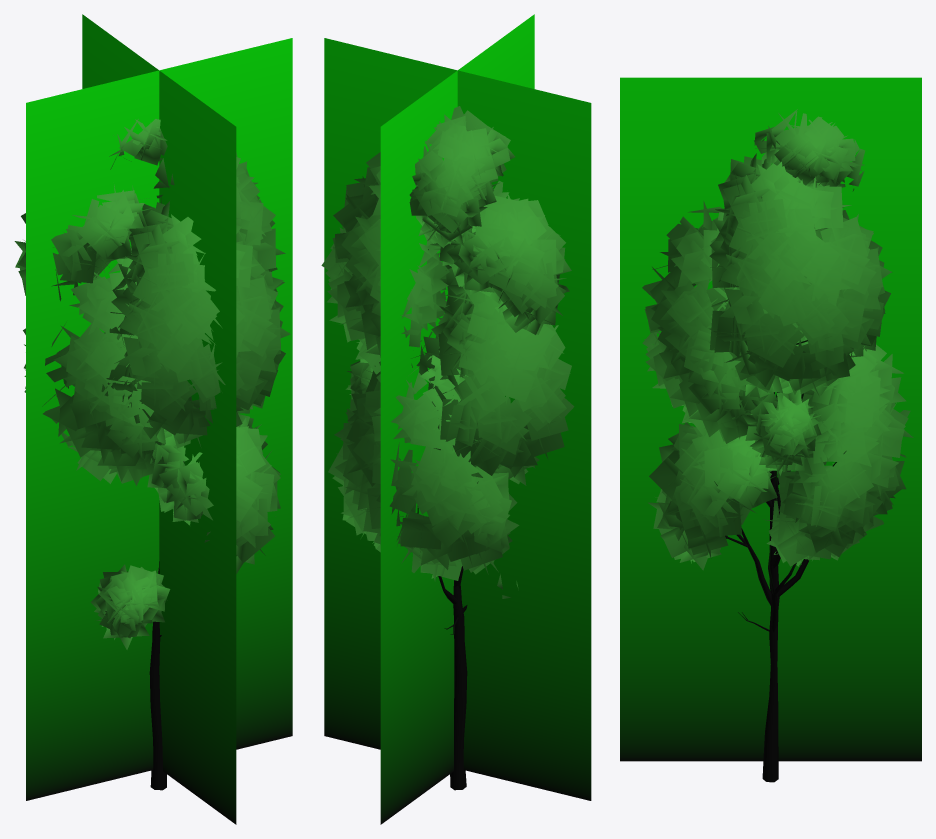
File: IL3DN_Tree_Birch_03.FBX
3 views of the same model, side by side, from view 1: azimuth 30°, elevation 25°; view 2: azimuth 150°, elevation 25°; view 3: azimuth 270°, elevation 25° (orthographic). The views are drawn at different scales.
Visible parts, largest first — view 1: IL3DN_Tree_Birch_03_Card, IL3DN_Tree_Birch_03_Leaves_LOD0, IL3DN_Tree_Birch_03_Branch_LOD0; view 2: IL3DN_Tree_Birch_03_Card, IL3DN_Tree_Birch_03_Leaves_LOD0, IL3DN_Tree_Birch_03_Branch_LOD0; view 3: IL3DN_Tree_Birch_03_Card, IL3DN_Tree_Birch_03_Leaves_LOD0, IL3DN_Tree_Birch_03_Branch_LOD0.
Part boxes in pixels (bbox=[...]): IL3DN_Tree_Birch_03_Card: bbox=[26, 14, 292, 824]; IL3DN_Tree_Birch_03_Leaves_LOD0: bbox=[14, 119, 290, 649]; IL3DN_Tree_Birch_03_Branch_LOD0: bbox=[114, 561, 166, 790]; IL3DN_Tree_Birch_03_Card: bbox=[324, 14, 591, 824]; IL3DN_Tree_Birch_03_Leaves_LOD0: bbox=[321, 106, 574, 598]; IL3DN_Tree_Birch_03_Branch_LOD0: bbox=[417, 249, 478, 790]; IL3DN_Tree_Birch_03_Card: bbox=[620, 77, 921, 761]; IL3DN_Tree_Birch_03_Leaves_LOD0: bbox=[642, 109, 913, 570]; IL3DN_Tree_Birch_03_Branch_LOD0: bbox=[714, 340, 846, 782].
Size of what is drawn, in the model's own units: 157 by 404 by 157.
